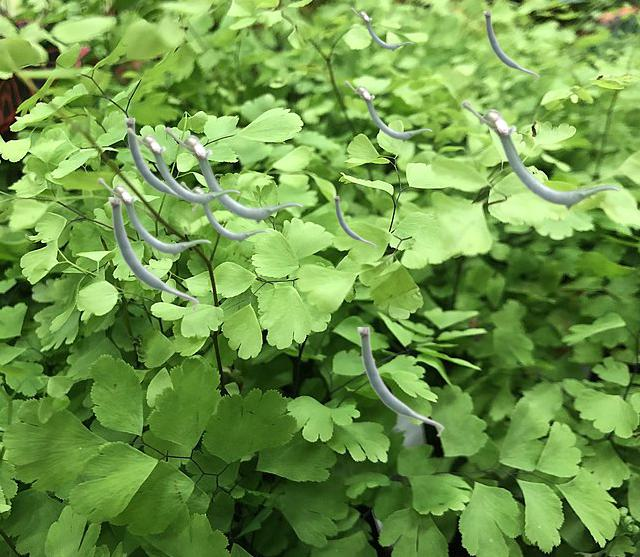french_bean: (461, 99, 619, 209), (164, 126, 302, 223), (108, 197, 198, 311), (357, 327, 443, 436), (126, 127, 239, 206), (97, 177, 210, 256), (124, 118, 197, 210), (344, 80, 431, 141), (180, 181, 267, 242), (483, 11, 538, 81), (350, 7, 412, 50), (333, 196, 375, 249)
